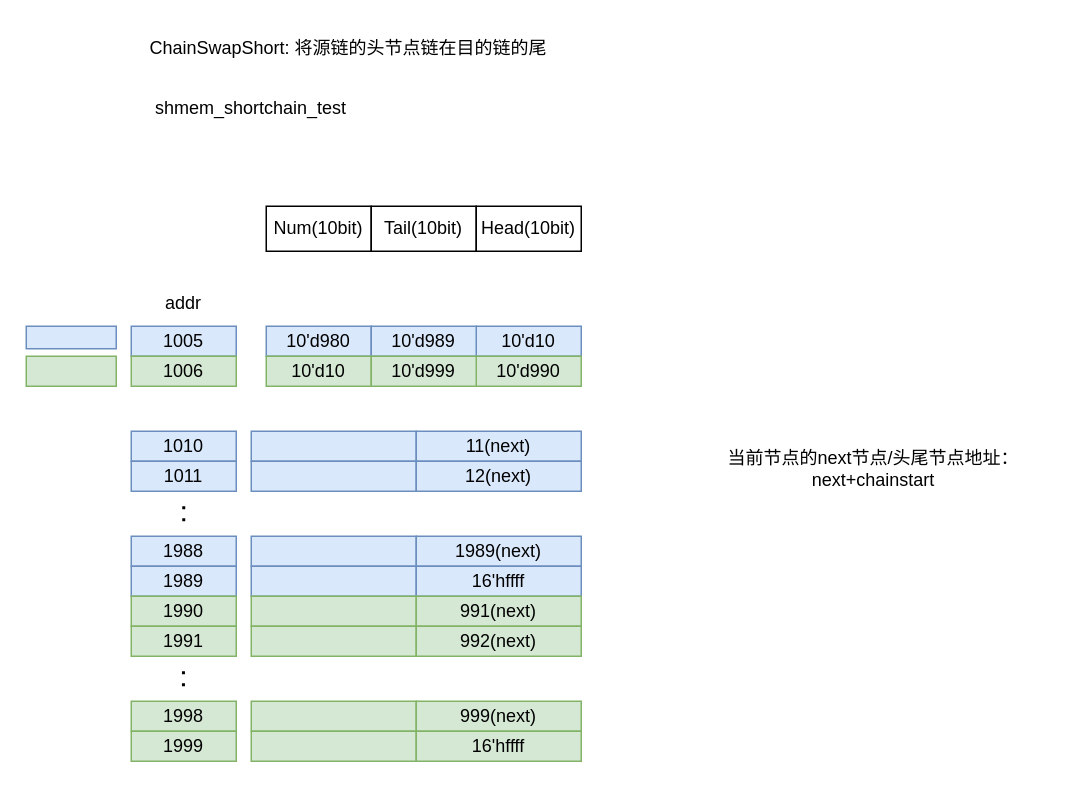
The diagram is 1088 pixels wide and 788 high, and some of its shapes have lost their labels. The centre of each missing label's shape, as x and y in pixels:
dst_chain: (70,370)
src_chain: (70,337)
